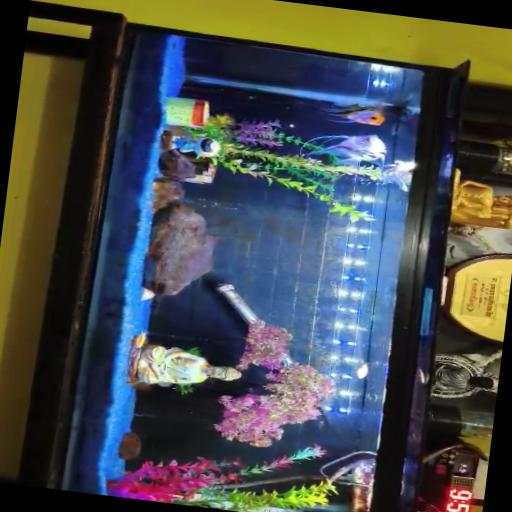Fish: (307, 134, 385, 165), (323, 103, 412, 125), (323, 104, 384, 125), (382, 160, 414, 191)
